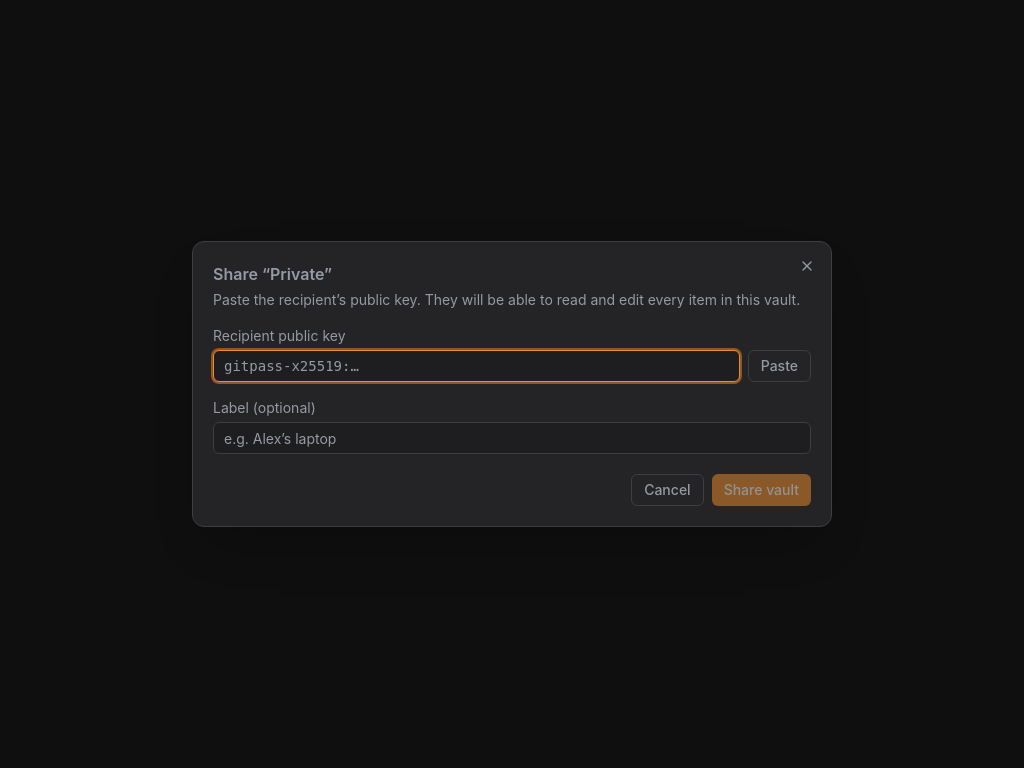
Scenario: ShareDialog › rejects invalid keys
Type "not-a-key" into the field with placeholder "gitpass-x25519:…" at {"x": 476, "y": 366}, box [213, 350, 740, 382]
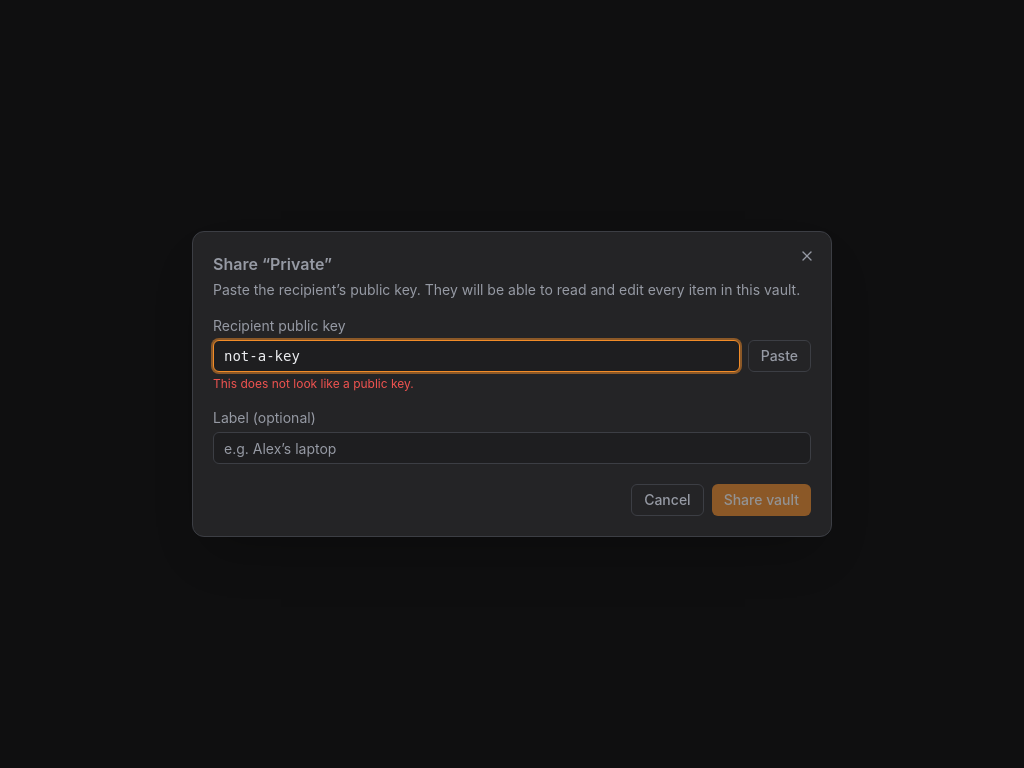
Result: the message shows "does not look like a public key" at [213, 376, 414, 391]
